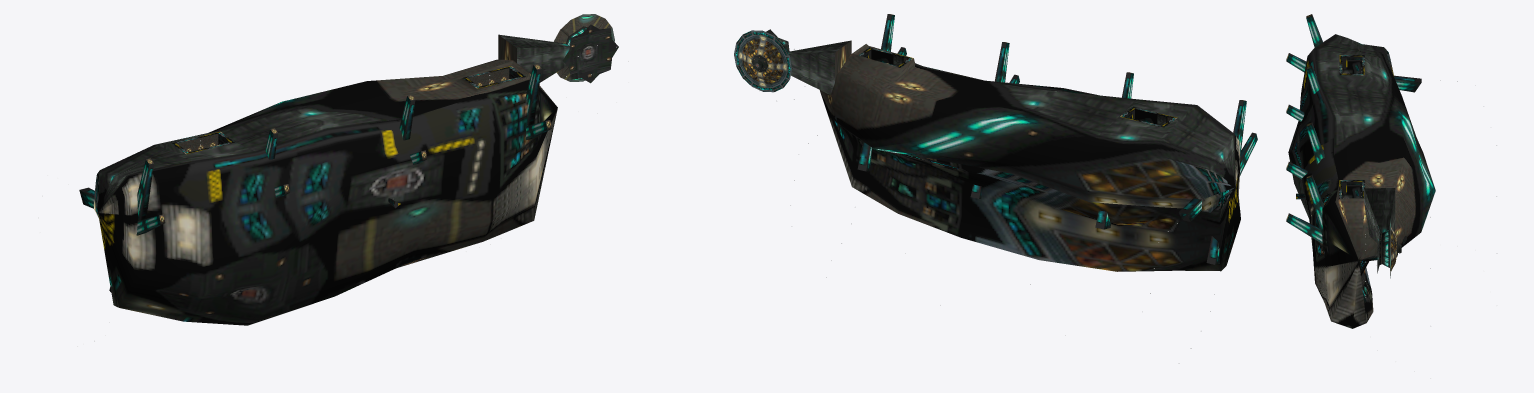
3 renders of one model, left to right at view 1: azimuth 30°, elevation 25°; view 2: azimuth 150°, elevation 25°; view 3: azimuth 270°, elevation 25°, orthographic. The views are drawn at different scales.
Visible parts, largest first — view 1: frm-nurbs6_1, frm-fuselg1, frm-cube1, frm-cube11, frm-cube10; view 2: frm-nurbs6_1, frm-fuselg1, frm-cube1, frm-cube11, frm-cube7; view 3: frm-nurbs6_1, frm-cube1, frm-fuselg1, frm-cube11, frm-cube6_2, frm-cube10, frm-cube9, frm-cube8, frm-cube7, frm-cube6_1.
Part boxes in pixels (x1,y1,x2,y2): frm-nurbs6_1: (94,59,557,325); frm-fuselg1: (553,14,618,83); frm-cube1: (498,34,569,82); frm-cube11: (79,158,153,220); frm-cube10: (526,64,541,125); frm-nurbs6_1: (820,44,1240,271); frm-fuselg1: (734,29,792,92); frm-cube1: (788,40,851,94); frm-cube11: (1178,100,1246,221); frm-cube7: (1206,132,1257,264); frm-nurbs6_1: (1288,34,1435,328); frm-cube1: (1364,188,1395,242); frm-fuselg1: (1377,219,1401,278); frm-cube11: (1306,14,1421,92); frm-cube6_2: (1286,213,1367,302); frm-cube10: (1306,175,1406,244); frm-cube9: (1306,122,1324,164); frm-cube8: (1306,65,1320,94); frm-cube7: (1286,53,1306,72); frm-cube6_1: (1286,161,1307,179).
Bounding box in the file's own units: 28.3 × 12.12 × 11.55.
